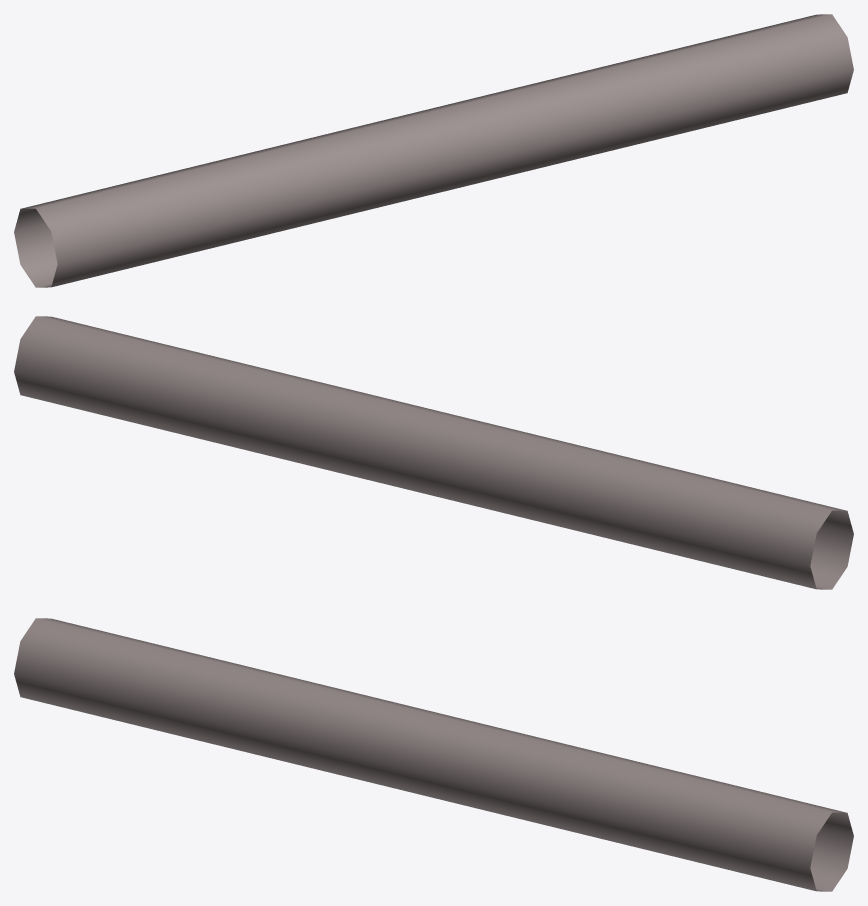
Rendered from cloth tube.fbx.
The picture shows the model from 3 angles, top to bottom: view 1: azimuth 30°, elevation 25°; view 2: azimuth 150°, elevation 25°; view 3: azimuth 330°, elevation 25°; orthographic projection.
Parts seen in each view (by area): view 1: cloth tube; view 2: cloth tube; view 3: cloth tube.
Boxes of the visible parts, bbox=[...] form: cloth tube: bbox=[14, 14, 853, 287]; cloth tube: bbox=[14, 316, 853, 589]; cloth tube: bbox=[14, 618, 853, 891].
Size of the model in its own units: 1931 by 183 by 183.
